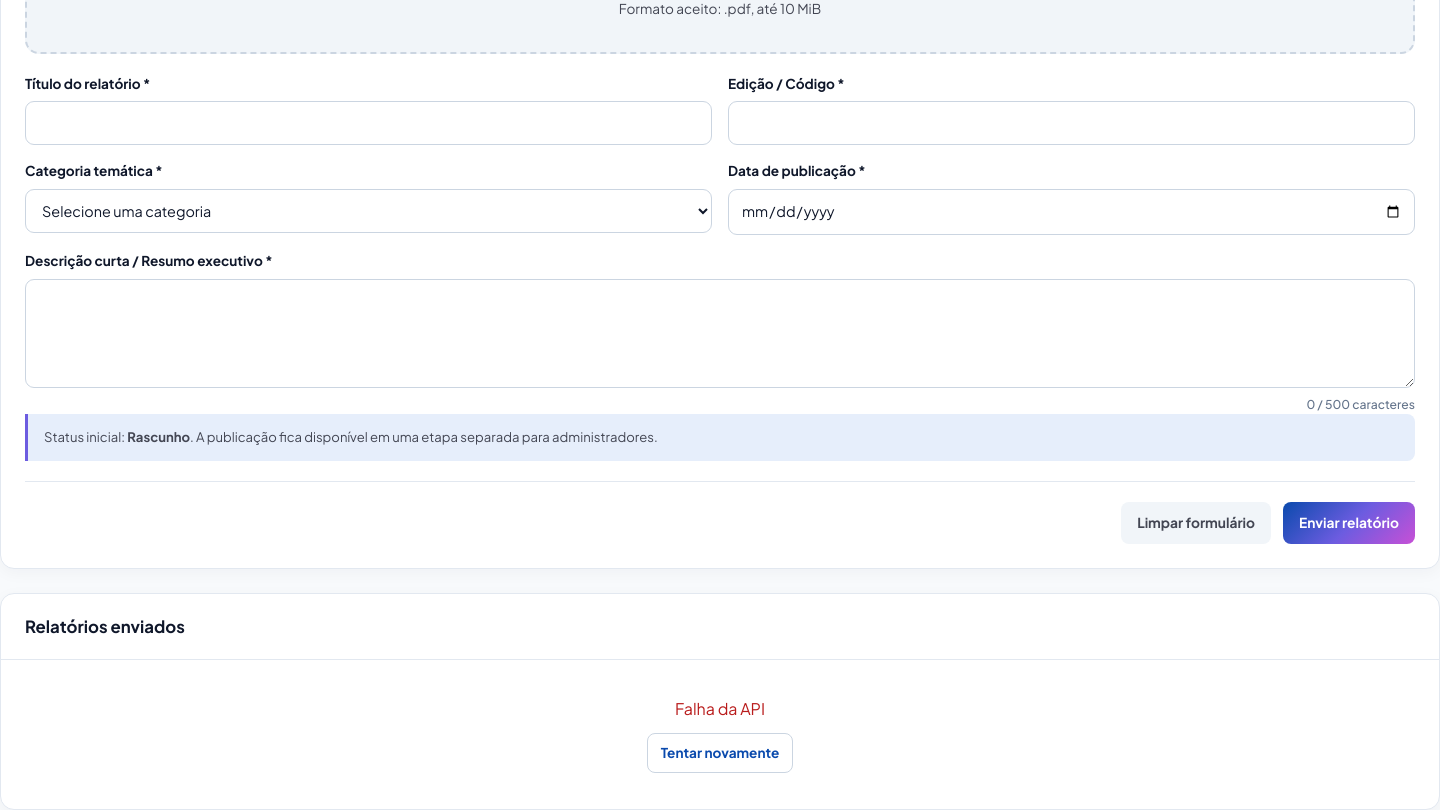
AdminRelatoriosPage › mostra o erro da lista e permite tentar novamente
(page scrolled)
Expected: the message shows "Falha da API", [675,698,765,719]
Click the button "Tentar novamente".
click(720, 753)  # box [647,733,793,773]
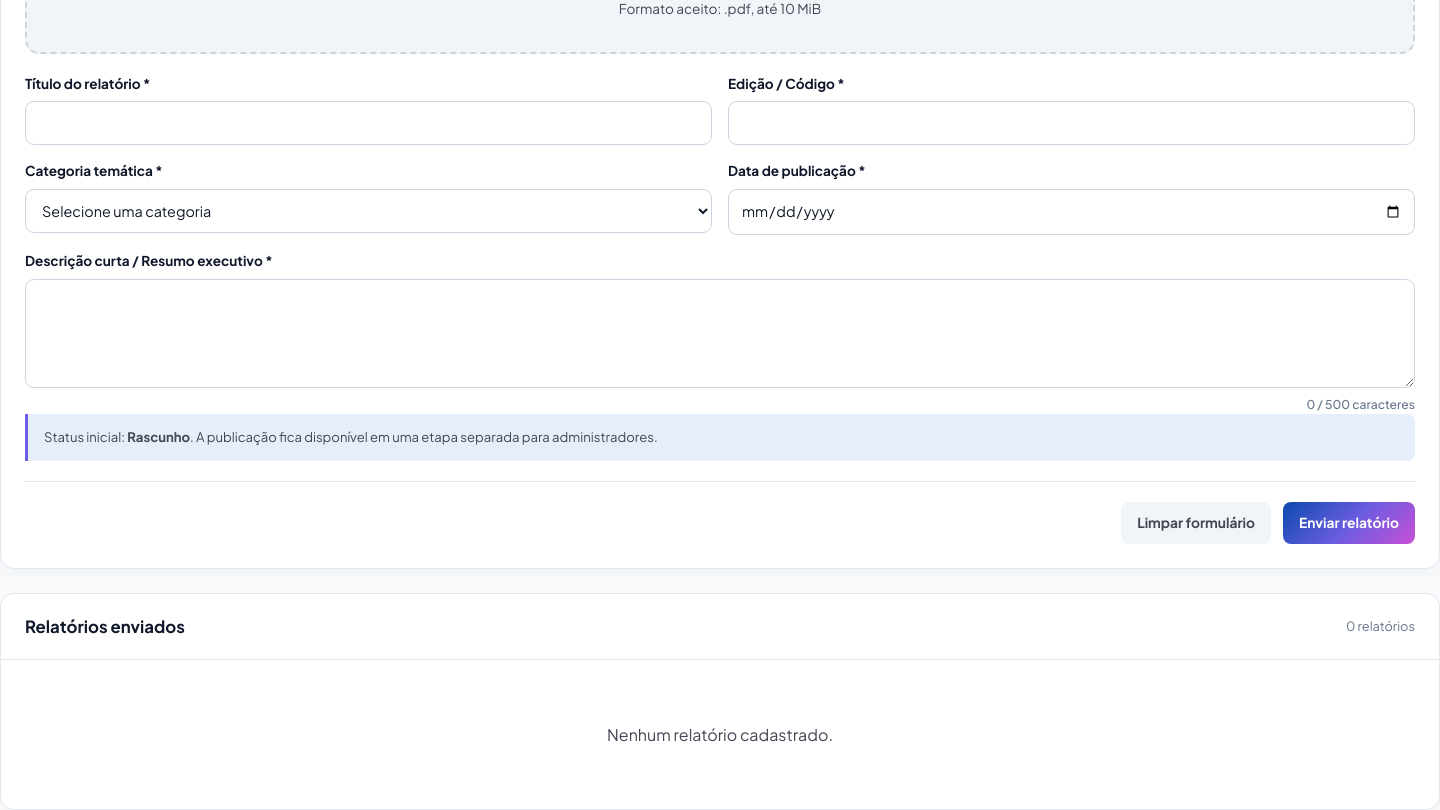
Expected: the text "Nenhum relatório cadastrado." is shown, [1,659,1439,809]
